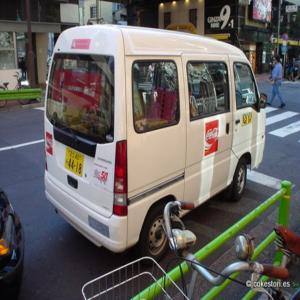Vehicle-registration-plate: (65, 149, 84, 178)
